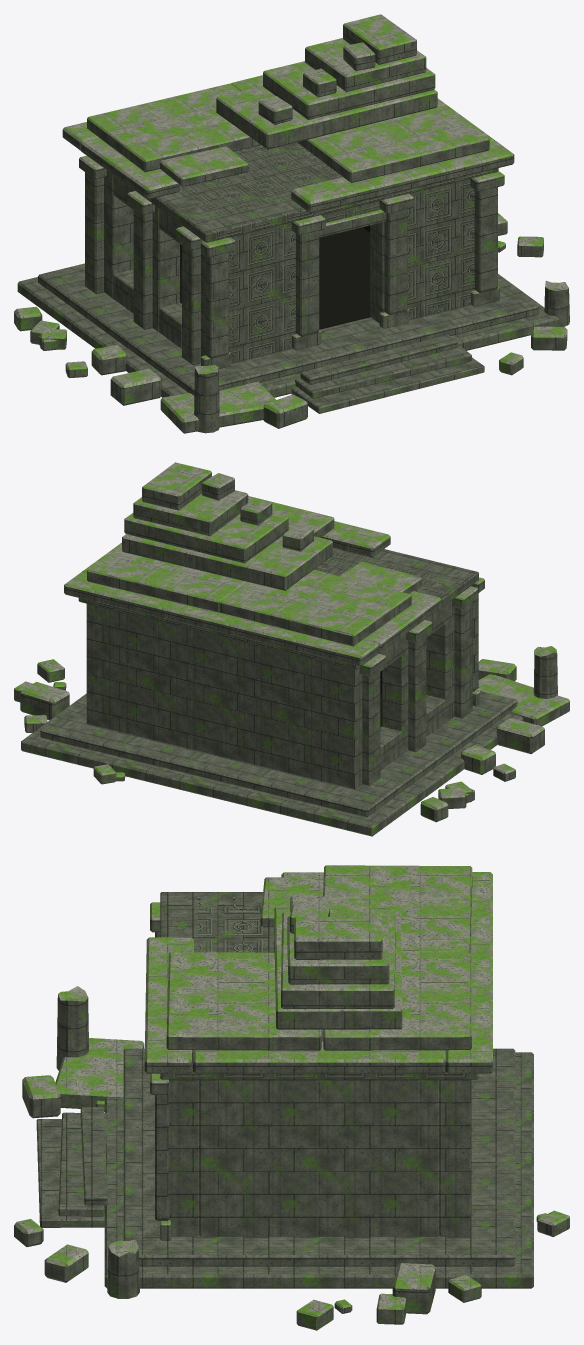
The model's file is Temple_Main.fbx.
The picture shows the model from 3 angles, top to bottom: view 1: azimuth 30°, elevation 25°; view 2: azimuth 150°, elevation 25°; view 3: azimuth 270°, elevation 25°; orthographic projection. The views are drawn at different scales.
Visible parts, largest first — view 1: Temple_Main.001; view 2: Temple_Main.001; view 3: Temple_Main.001.
Part boxes in pixels (x1=…): Temple_Main.001: x1=14, y1=14, x2=569, y2=433; Temple_Main.001: x1=14, y1=462, x2=569, y2=836; Temple_Main.001: x1=14, y1=865, x2=569, y2=1330.
Bounding box in the file's own units: 11.08 × 5.41 × 8.8.
